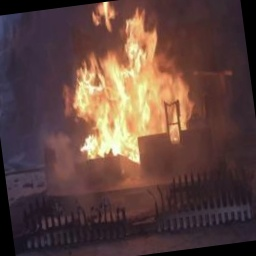fire: (43, 0, 209, 171)
